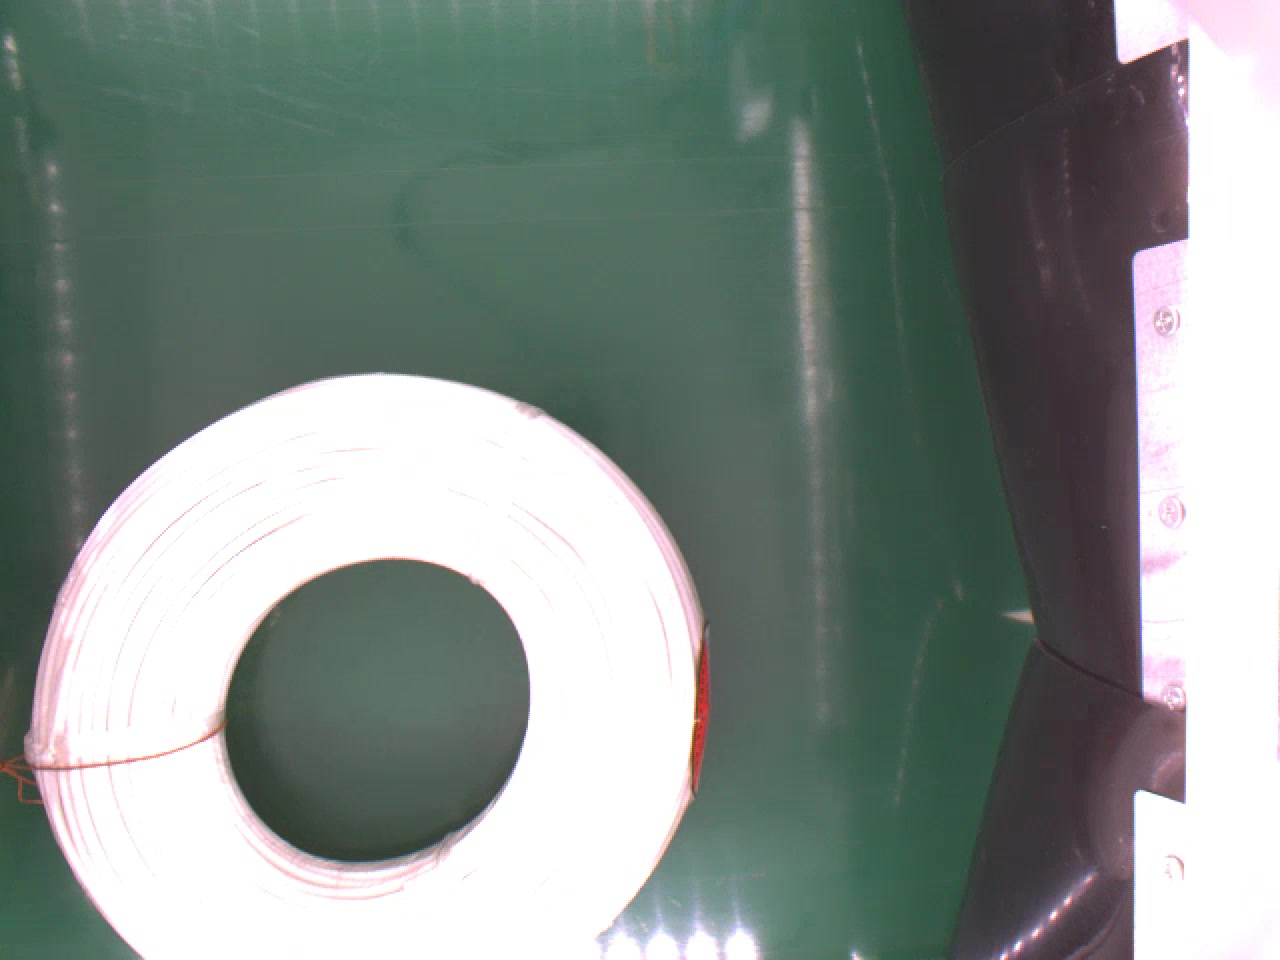white: (31, 367, 707, 960)
